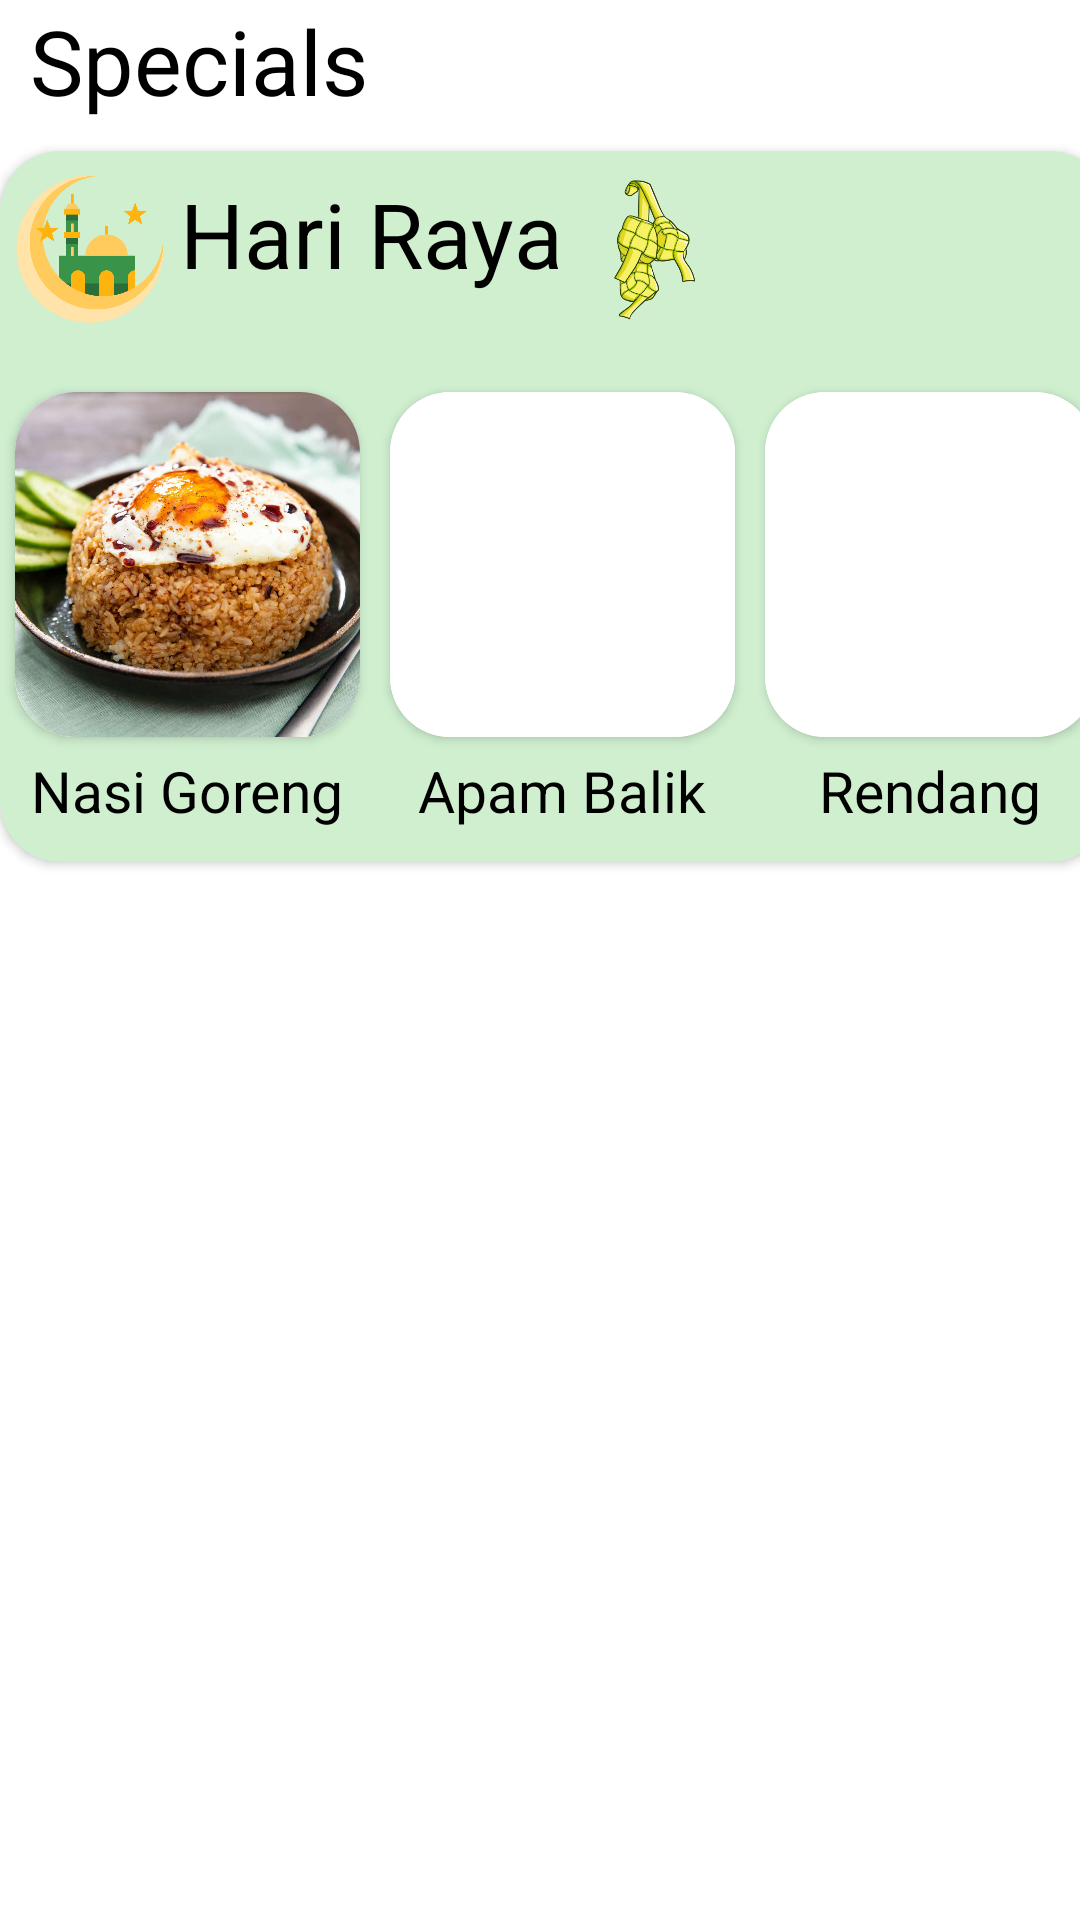

Screen size 1080 x 1920. Icon name, then its box in pixels as BBox(x1, y1, x2, y2):
home mosque: BBox(16, 175, 164, 323)
home raya: BBox(614, 180, 695, 319)
